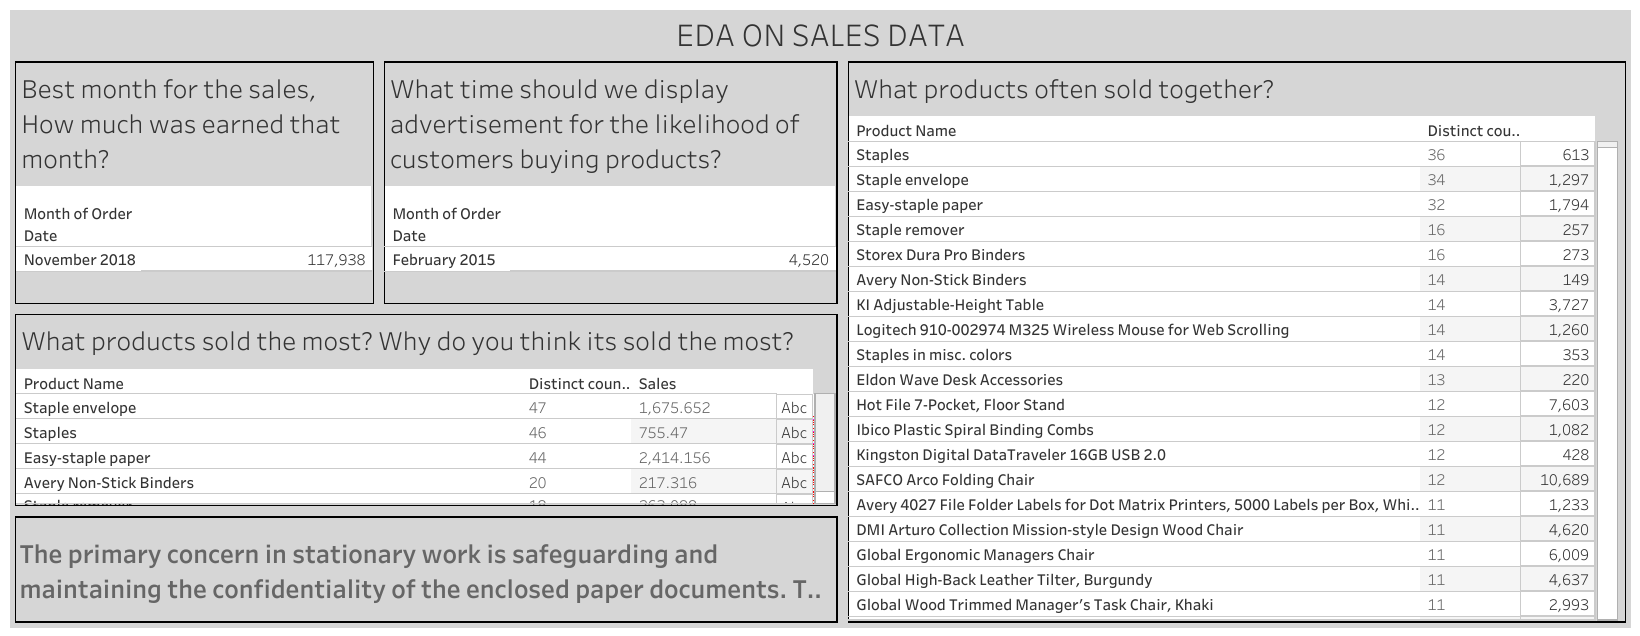

Layout of this report page (visuals, bound fields, positions):
{"tool":"tableau","page":{"name":"Dashboard 1","canvas":[1000,1000],"units":"permille","ordinal":0},"visuals":[{"type":"title","box":[6.1,15.7,987.8,72.5]},{"type":"worksheet","title":"Sheet 1","mark":"Automatic","rows":["Order Date"],"box":[6.1,88.2,224.7,395.4]},{"type":"worksheet","title":"Sheet 1 (2)","mark":"Automatic","rows":["Order Date"],"box":[230.8,88.2,282.6,395.4]},{"type":"worksheet","title":"Sheet 3","mark":"Automatic","rows":["Product Name","Order ID"],"box":[513.3,88.2,480.6,896.1]},{"type":"worksheet","title":"Sheet 4","mark":"Automatic","rows":["Product Name","Order ID","Sales"],"box":[6.1,483.7,507.2,319.3]},{"type":"text","box":[6.1,802.9,507.2,181.4]}]}

Visuals, with their boxes on the dashboard's canvas, which has no fixed pixel size, in thousandths of its width and height (x1, y1, x2, y2). These are canvas units, not pixel positions in the 1640x636 screenshot, which may show the page scaled, cropped or inside an application window:
title: (left=6, top=16, right=994, bottom=88)
"Sheet 1" worksheet: (left=6, top=88, right=231, bottom=484)
"Sheet 1 (2)" worksheet: (left=231, top=88, right=513, bottom=484)
"Sheet 3" worksheet: (left=513, top=88, right=994, bottom=984)
"Sheet 4" worksheet: (left=6, top=484, right=513, bottom=803)
text: (left=6, top=803, right=513, bottom=984)
